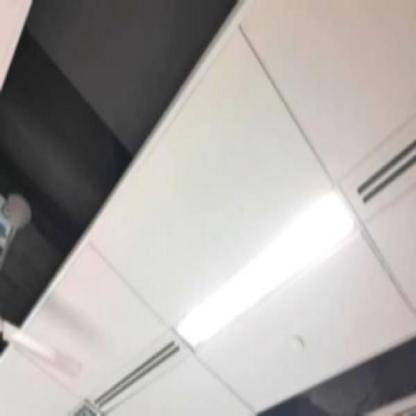light_on: (168, 182, 356, 368)
